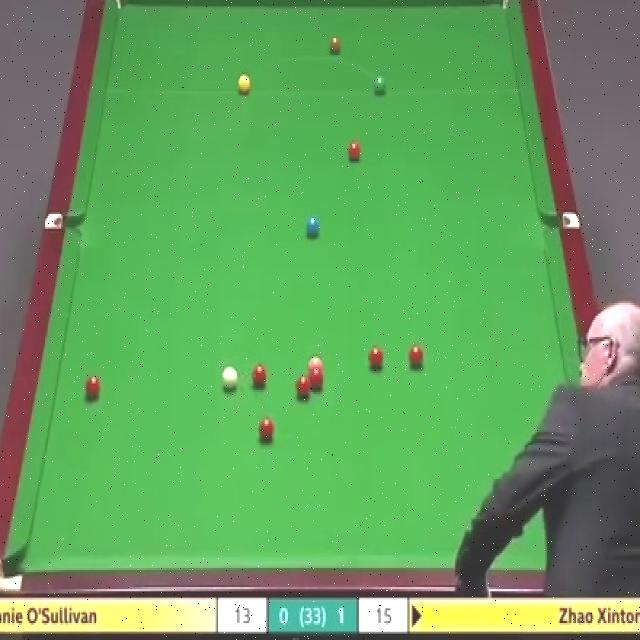blue-ball: (305, 216, 320, 236)
brown-ball: (328, 35, 341, 54)
green-ball: (372, 73, 386, 95)
pink-ball: (308, 358, 322, 374)
red-ball: (83, 373, 100, 399), (258, 416, 274, 443), (367, 345, 385, 369), (408, 343, 425, 368), (295, 375, 311, 399), (251, 363, 267, 386), (347, 141, 361, 163), (308, 371, 324, 389)
white-ball: (221, 365, 239, 390)
yellow-ball: (237, 74, 250, 94)
